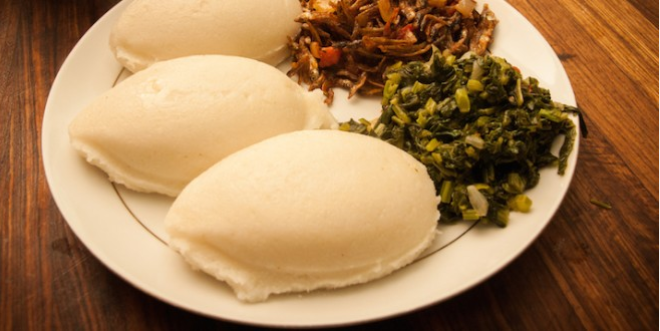crevettes: (318, 2, 497, 55)
legumes verts: (386, 63, 569, 145)
placali: (102, 15, 283, 235)
